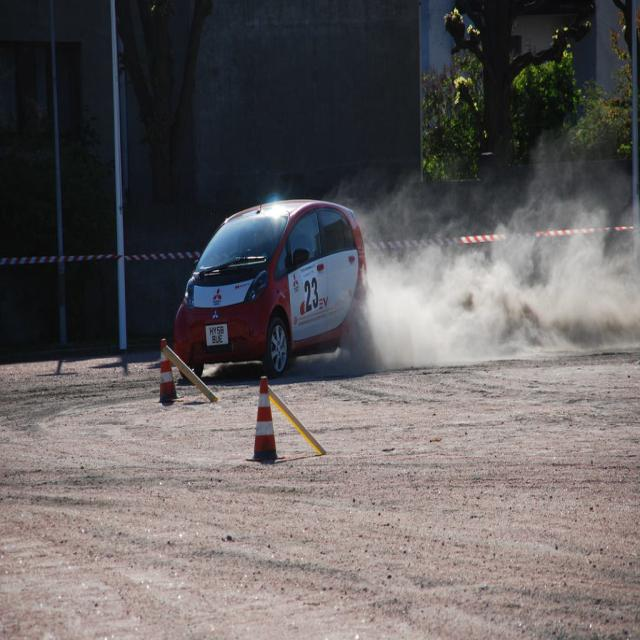car: (169, 195, 369, 372)
